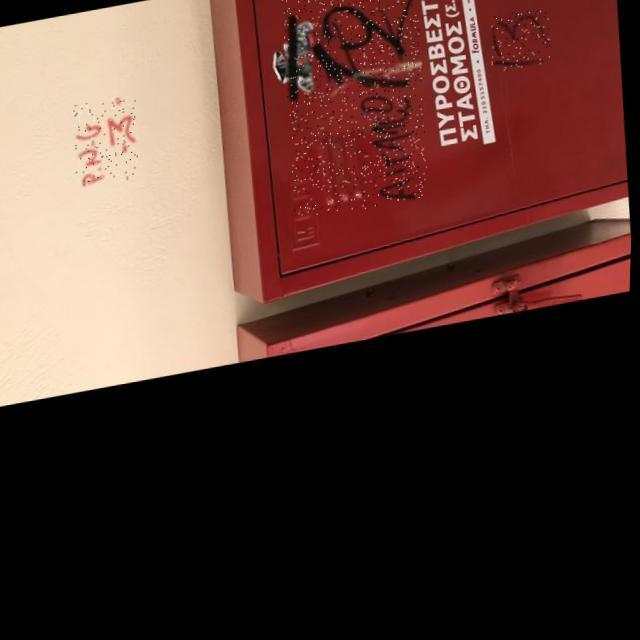-: (274, 0, 435, 229), (70, 96, 142, 190), (488, 16, 552, 85)
